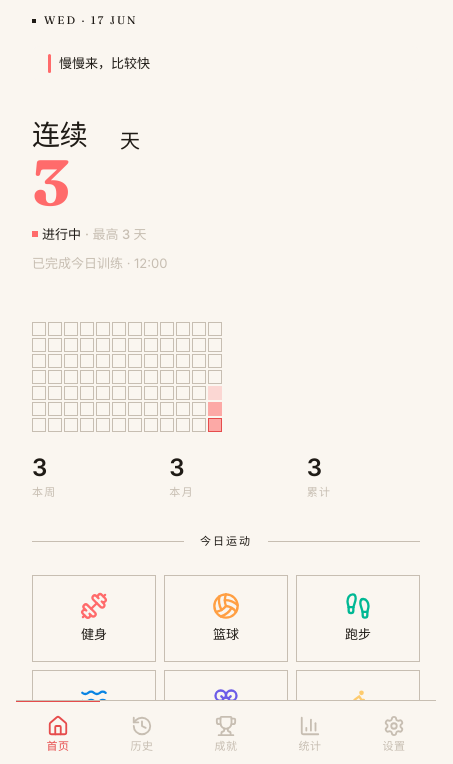
it: 完整打卡流程集成测试 › 连续3天打卡→Streak=3→三日燃成就解锁
The image size is (453, 764).
Check: the text "连续" is shown, box [32,121,88,149]
Check: the text "3" below "连续" is shown, box [32,142,68,221]
Click the link "成就".
click(226, 734)  # box [214,714,238,752]
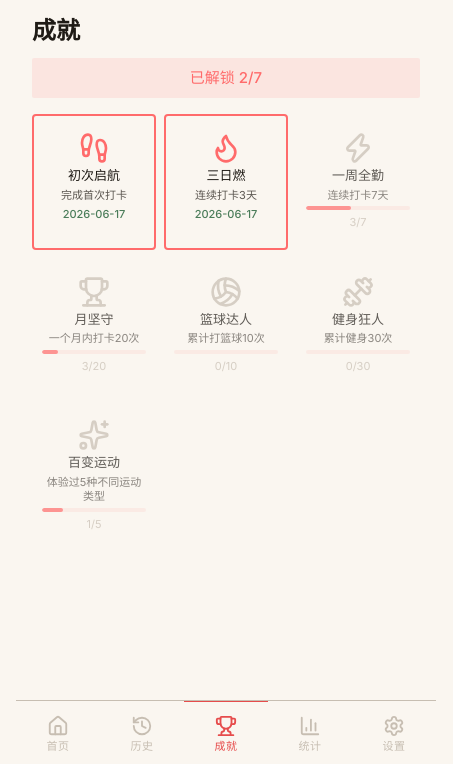
Check: the text "三日燃" is shown, box [206,168,246,184]
Check: the text "已解锁 2/7" is shown, box [32,58,420,98]
